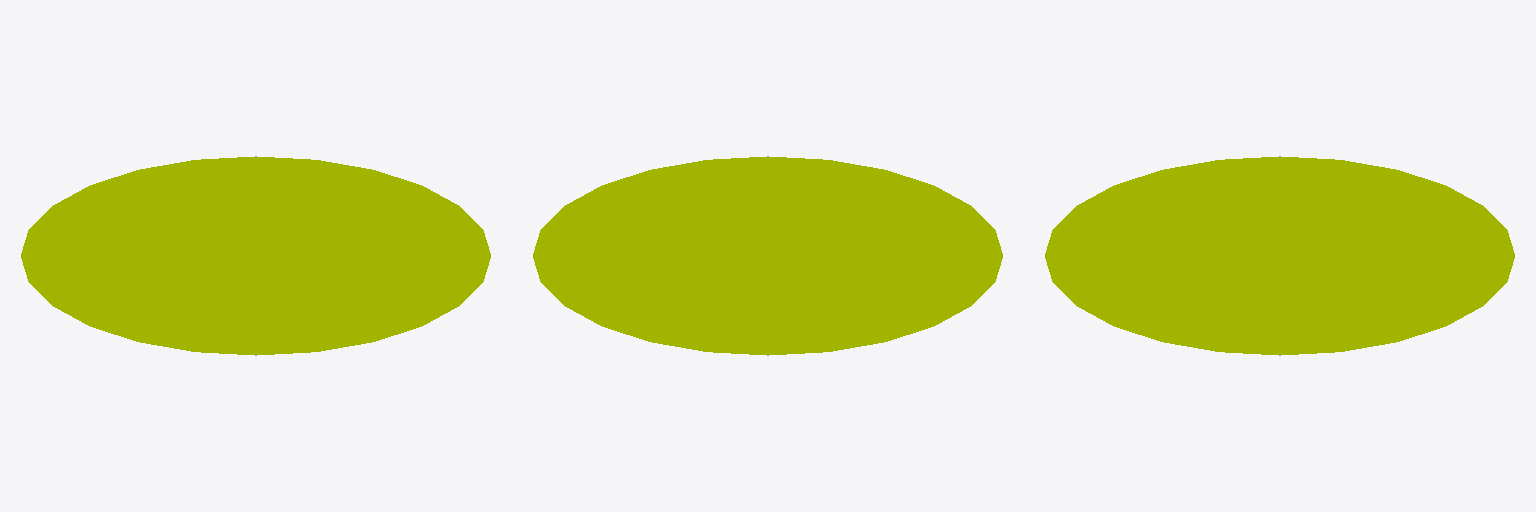
File: switch.obj
The picture shows the model from 3 angles: view 1: azimuth 30°, elevation 25°; view 2: azimuth 150°, elevation 25°; view 3: azimuth 270°, elevation 25°; orthographic projection.
Parts seen in each view (by area): view 1: pDisc1; view 2: pDisc1; view 3: pDisc1.
Part boxes in pixels (x1,y1,x2,y2): pDisc1: (21, 156, 490, 355); pDisc1: (533, 156, 1002, 355); pDisc1: (1045, 156, 1514, 355).
Bounding box in the file's own units: 2 × 0 × 2.